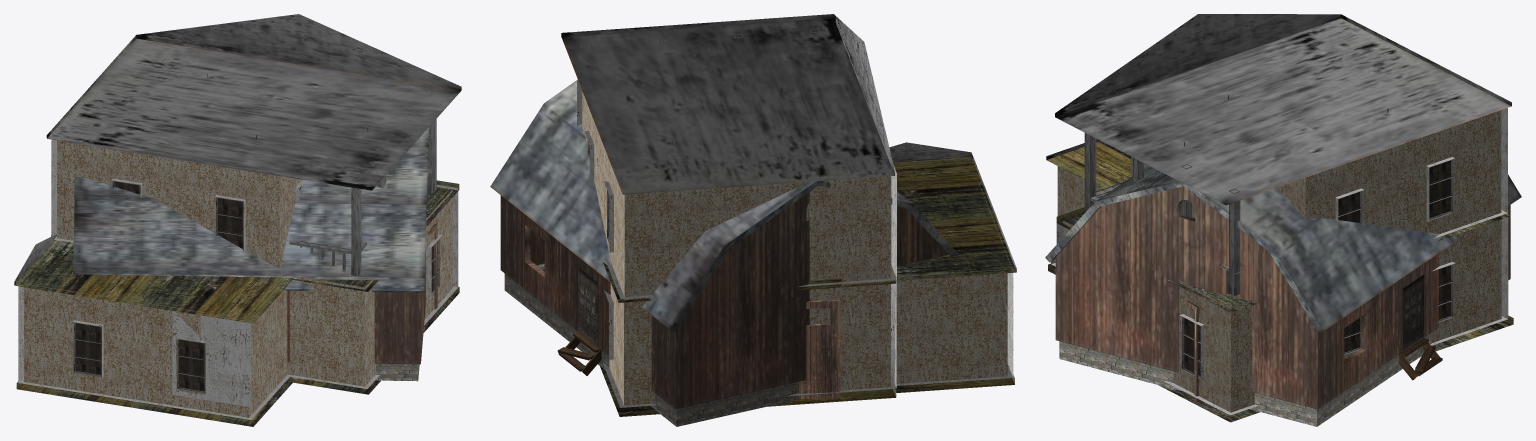
Rendered from forest_map.glb.
3 views of the same model, side by side, from view 1: azimuth 30°, elevation 25°; view 2: azimuth 150°, elevation 25°; view 3: azimuth 270°, elevation 25° (orthographic). The views are drawn at different scales.
Parts seen in each view (by area): view 1: OldHouse, group_house, Wallbit1; view 2: OldHouse, group_house, Stall, DoorR; view 3: OldHouse, group_house, DoorR, Stall.
Boxes of the visible parts, x1,y1,x2,y2 form: OldHouse: (14, 14, 461, 426); group_house: (73, 127, 429, 381); Wallbit1: (172, 311, 251, 407); OldHouse: (561, 14, 1016, 416); group_house: (490, 79, 959, 426); Stall: (797, 299, 840, 399); DoorR: (578, 267, 597, 345); OldHouse: (1046, 14, 1513, 422); group_house: (1045, 165, 1521, 426); DoorR: (1403, 274, 1424, 350); Stall: (1181, 299, 1200, 401).
Size of the model in its own units: 24.75 by 14.1 by 21.25.
Materials: 29 (29 with a texture image).
